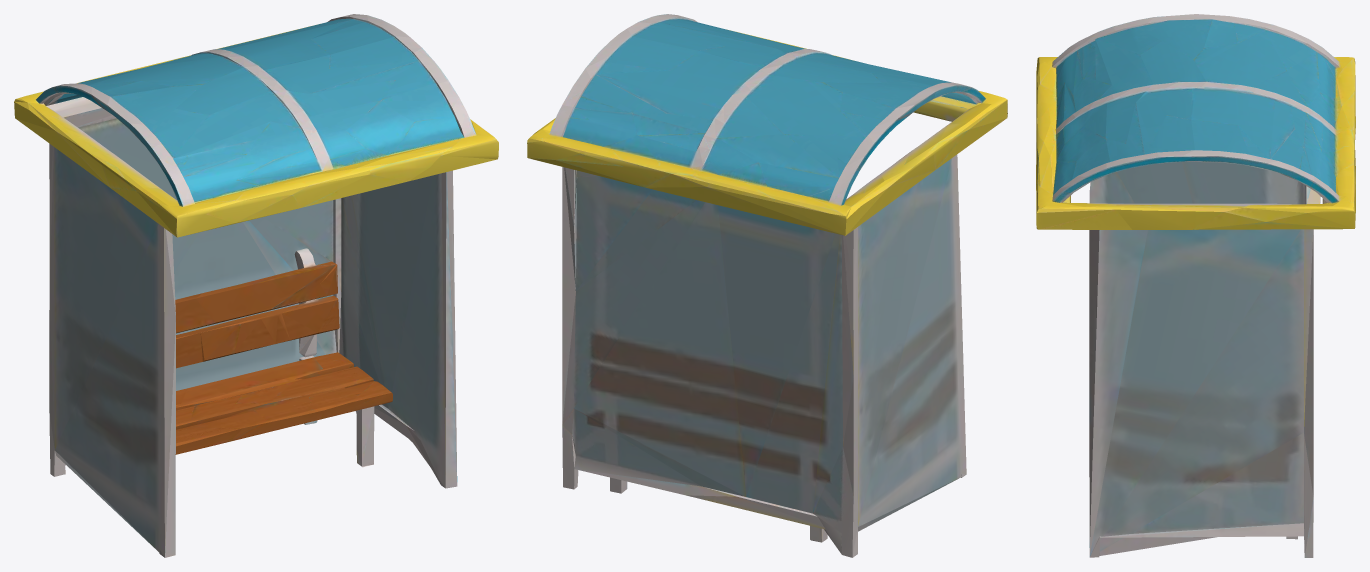
Rendered from bus_stop.glb.
3 renders of one model, left to right at view 1: azimuth 30°, elevation 25°; view 2: azimuth 150°, elevation 25°; view 3: azimuth 270°, elevation 25°, orthographic. The views are drawn at different scales.
Bounding box in the file's own units: 2.2 × 2.7 × 1.94.
Materials: 1 (1 with a texture image).
